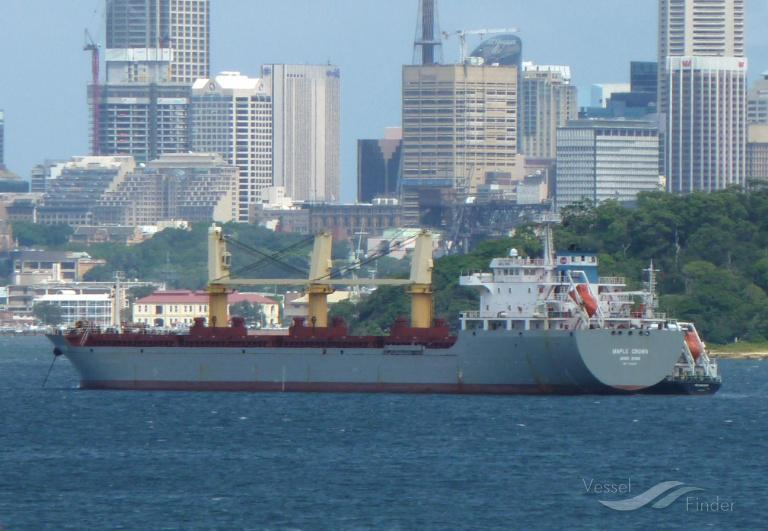OCR: (602, 340, 654, 369)
